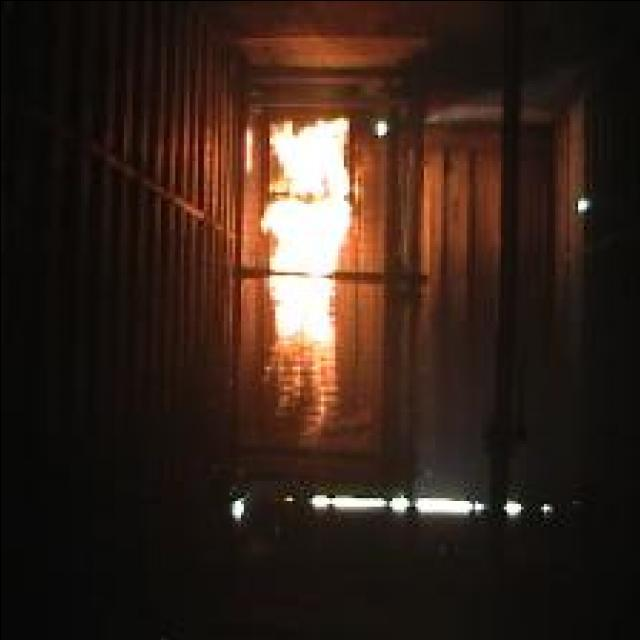Fire: (262, 116, 350, 438)
